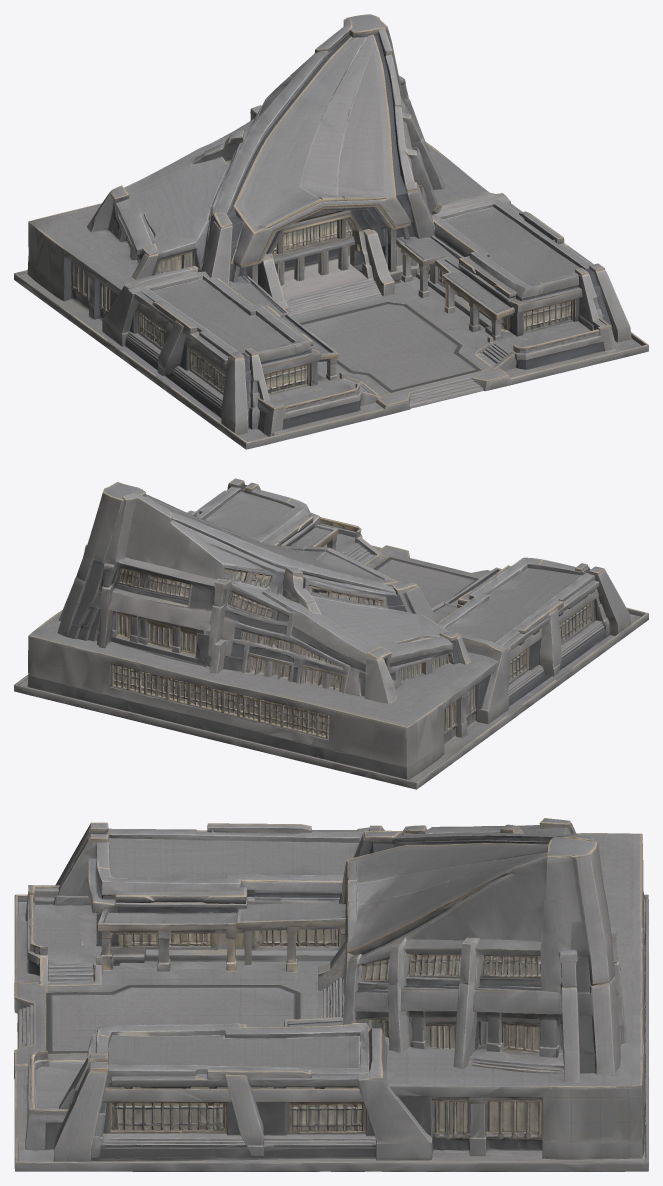
File: imperial_cultural_district.glb
3 views of the same model, one above another, from view 1: azimuth 30°, elevation 25°; view 2: azimuth 150°, elevation 25°; view 3: azimuth 270°, elevation 25° (orthographic). The views are drawn at different scales.
Visible parts, largest first — view 1: mesh_node; view 2: mesh_node; view 3: mesh_node.
Boxes of the visible parts, x1,y1,x2,y2 form: mesh_node: (14,14,648,449); mesh_node: (14,478,648,789); mesh_node: (14,818,648,1171).
Bounding box in the file's own units: 39.62 × 18.9 × 39.62.
Materials: 1 (1 with a texture image).
